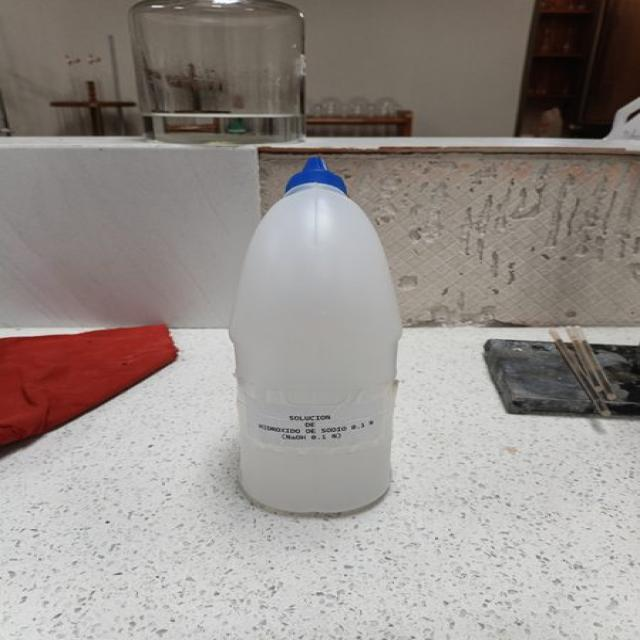Agua Destilada Desmineralizada: (232, 158, 400, 510)
